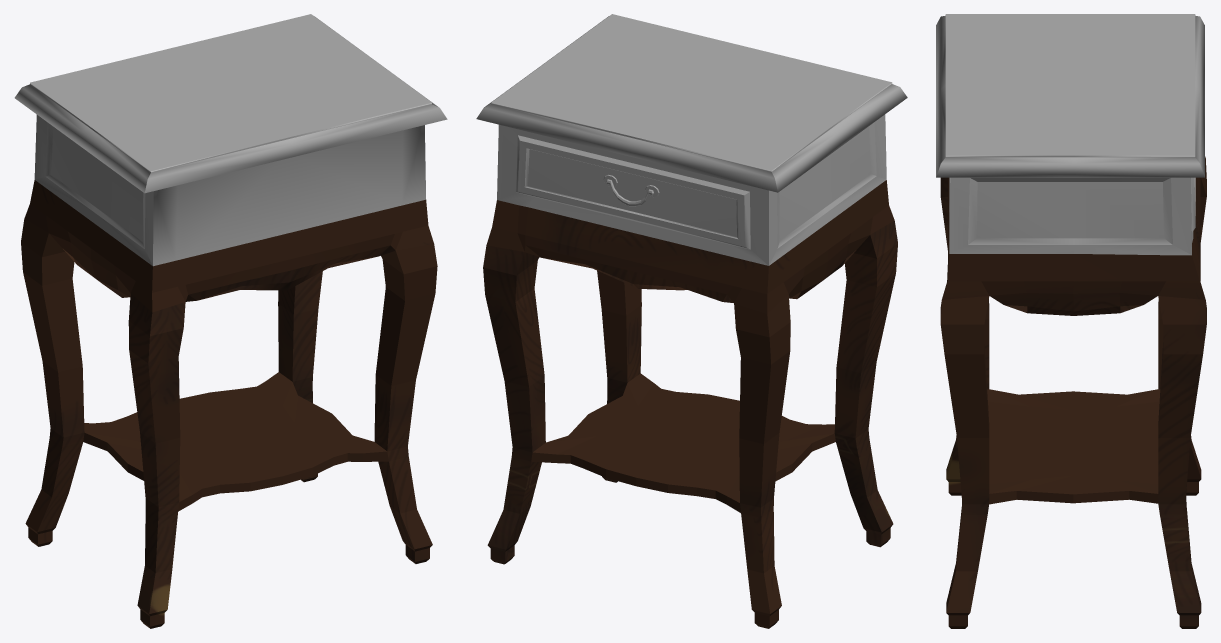
File: InfirmarySmallCabinet.fbx
The picture shows the model from 3 angles, left to right: view 1: azimuth 30°, elevation 25°; view 2: azimuth 150°, elevation 25°; view 3: azimuth 270°, elevation 25°; orthographic projection. The views are drawn at different scales.
Visible parts, largest first — view 1: polySurface127; view 2: polySurface127; view 3: polySurface127.
Part boxes in pixels (x1=…): polySurface127: x1=14, y1=14, x2=447, y2=628; polySurface127: x1=476, y1=14, x2=907, y2=628; polySurface127: x1=936, y1=14, x2=1206, y2=628.
Bounding box in the file's own units: 48.72 × 70.75 × 36.56.
